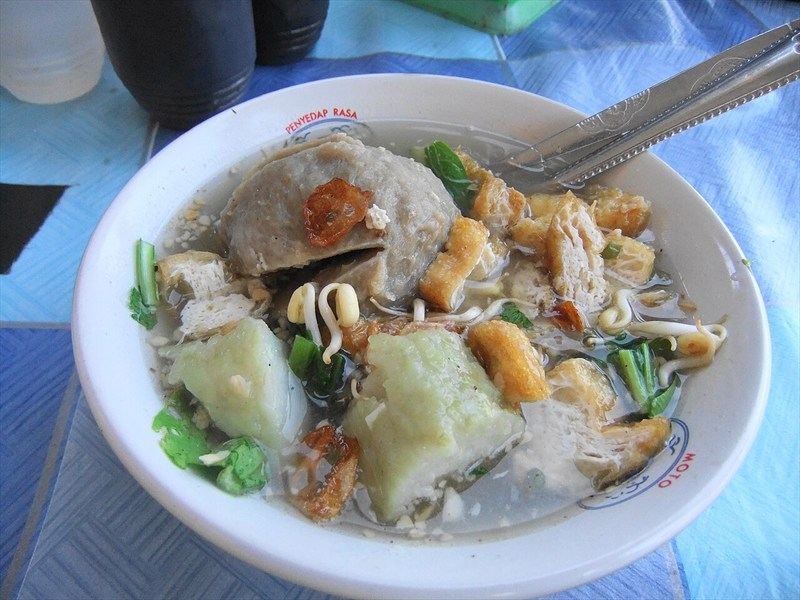Bakso: (107, 84, 688, 486)
